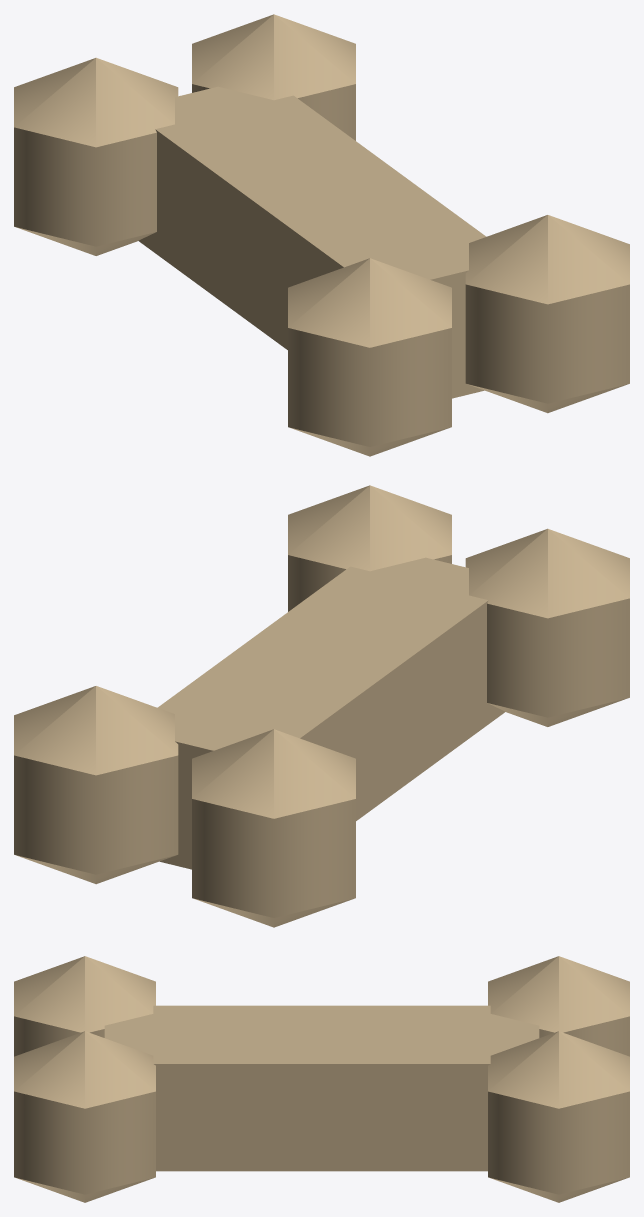
Rendered from item_biscuit.glb.
3 renders of one model, top to bottom at view 1: azimuth 30°, elevation 25°; view 2: azimuth 150°, elevation 25°; view 3: azimuth 270°, elevation 25°, orthographic. The views are drawn at different scales.
Visible parts, largest first — view 1: Item_biscuit; view 2: Item_biscuit; view 3: Item_biscuit.
Part boxes in pixels (box(x1,y1,x2,y2)): Item_biscuit: box(14, 14, 629, 456); Item_biscuit: box(14, 485, 629, 927); Item_biscuit: box(14, 956, 629, 1202).
Size of the model in its own units: 0.1731 by 0.096 by 0.312.
